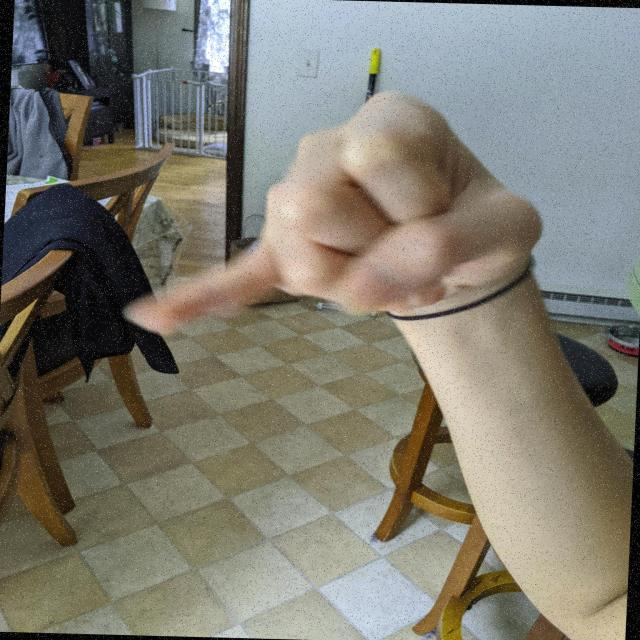J: (108, 78, 565, 362)
